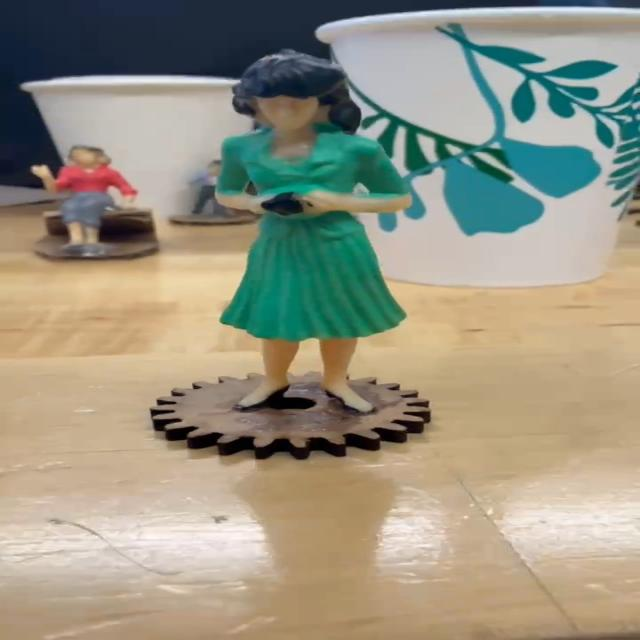Authorized: (191, 52, 420, 414)
